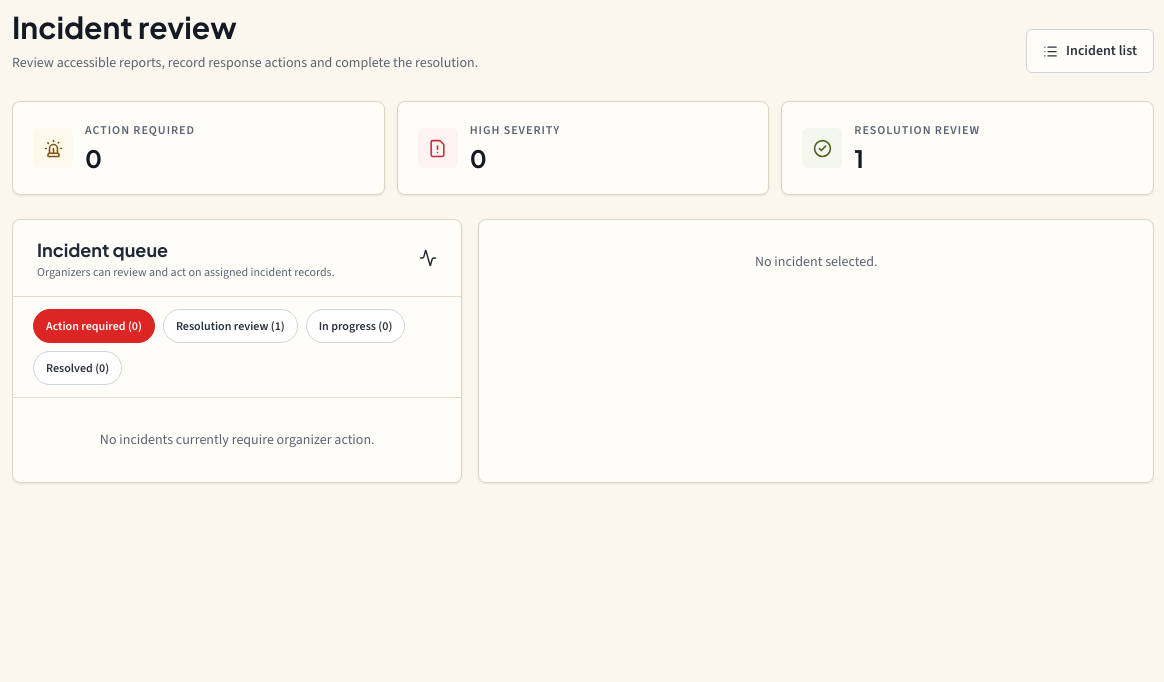
Test: live incident workspace resilience › shows only actions that are valid for the current organizer workflow stage
The image size is (1164, 682).
Click the tab "Resolution review (1)".
click(230, 326)  # box [163,309,298,343]
(page scrolled)
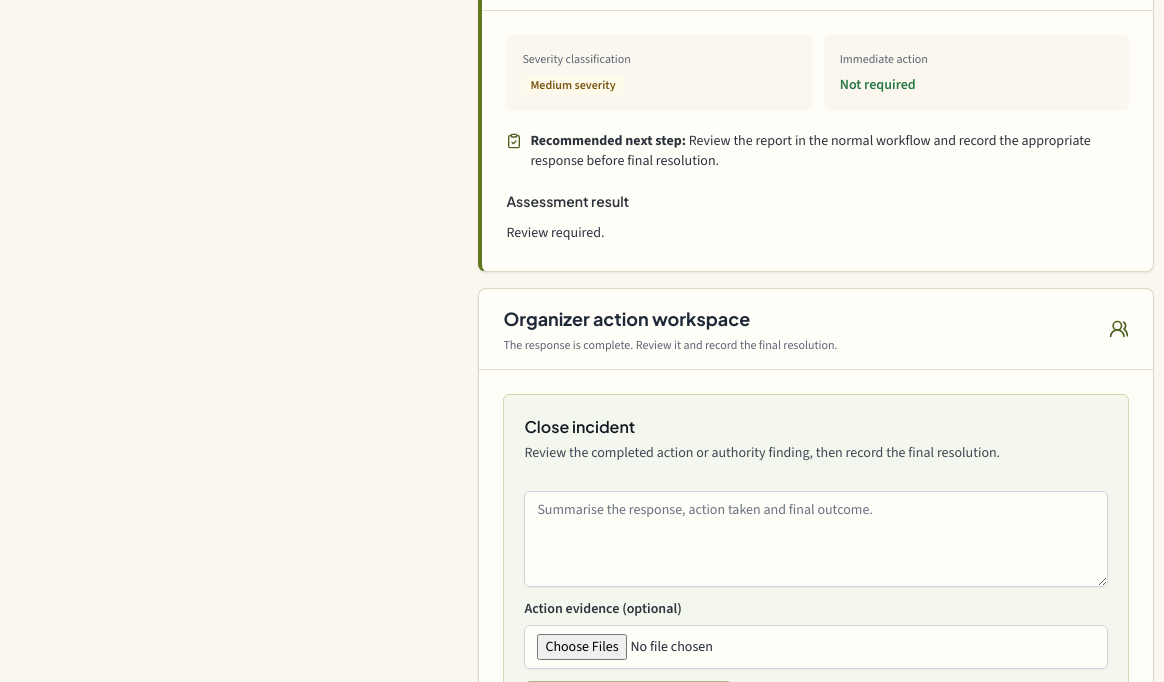
Check: the text "response is complete" is shown, box [503,337,838,353]
